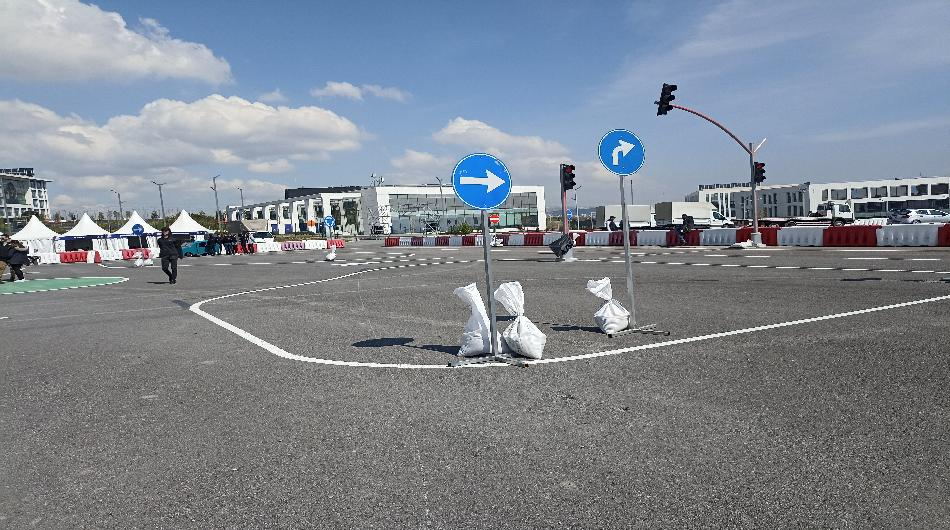saga_mecburi_1: (452, 152, 514, 206)
saga_mecburi_2: (595, 125, 645, 175)
